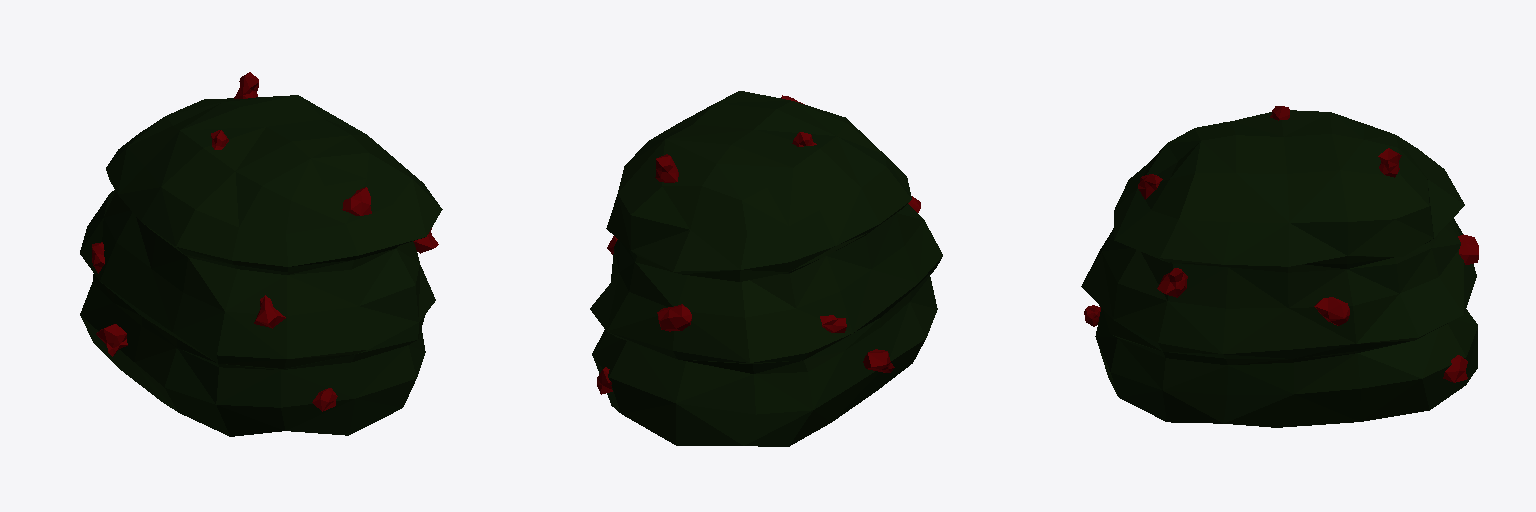
Rendered from BushBerries_1.obj.
The picture shows the model from 3 angles: view 1: azimuth 30°, elevation 25°; view 2: azimuth 150°, elevation 25°; view 3: azimuth 270°, elevation 25°; orthographic projection.
Visible parts, largest first — view 1: BushBerries_1_Cube.044; view 2: BushBerries_1_Cube.044; view 3: BushBerries_1_Cube.044.
Boxes of the visible parts, x1=… form: BushBerries_1_Cube.044: x1=80, y1=72, x2=442, y2=436; BushBerries_1_Cube.044: x1=590, y1=91, x2=942, y2=446; BushBerries_1_Cube.044: x1=1081, y1=106, x2=1478, y2=427.
Bounding box in the file's own units: 1.39 × 1.28 × 1.72.